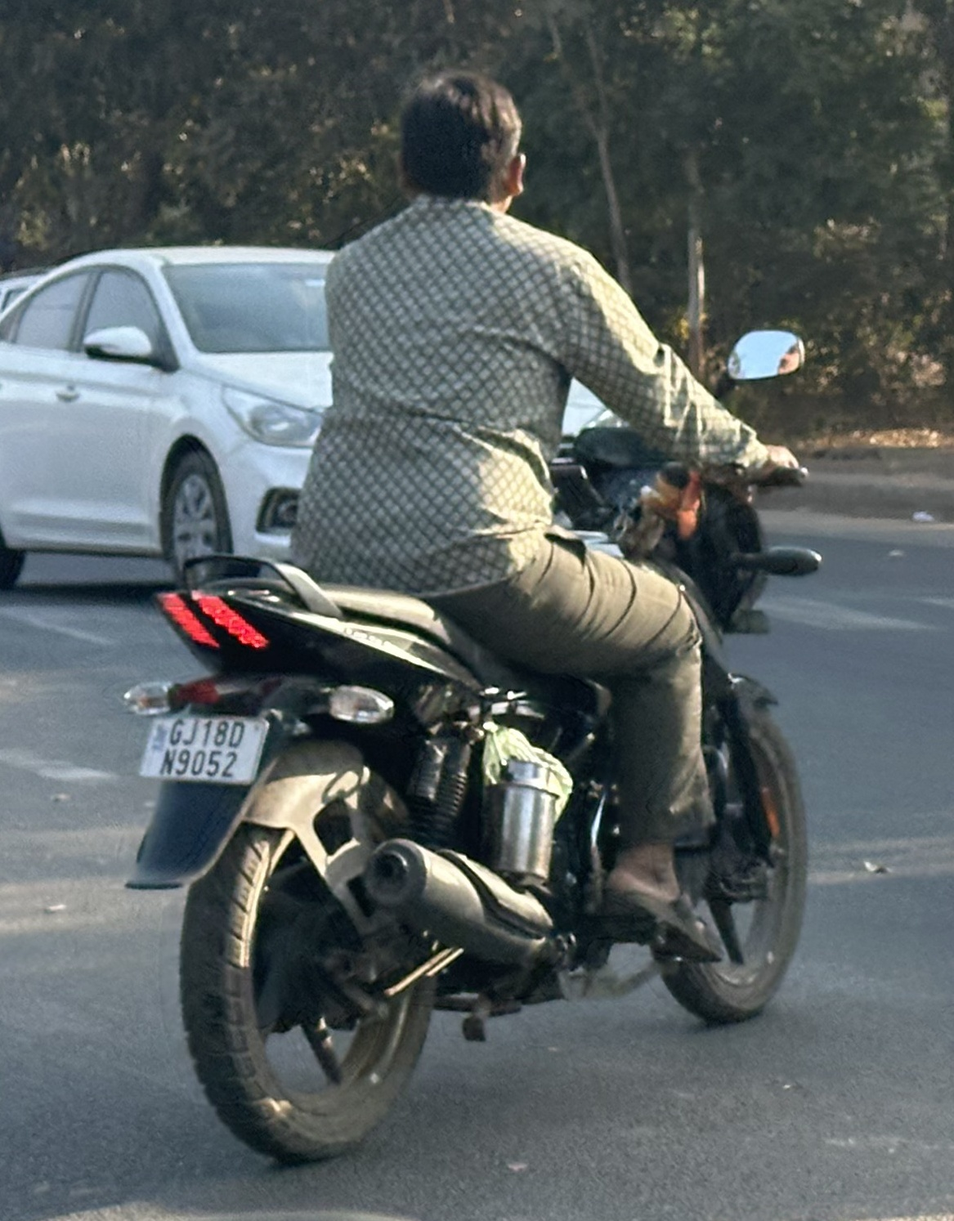BikeWithRider: (102, 53, 839, 1178)
NoHelmet: (374, 55, 549, 230)
